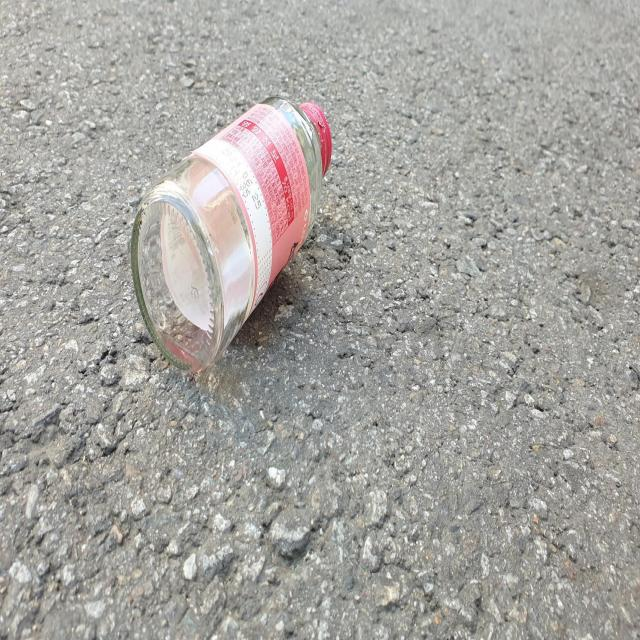glass: (131, 97, 332, 371)
